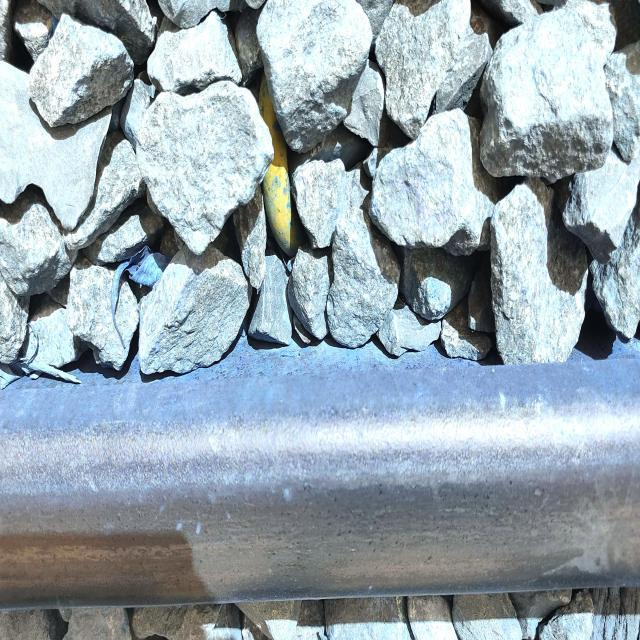Good Fasteners: (259, 77, 301, 256)
